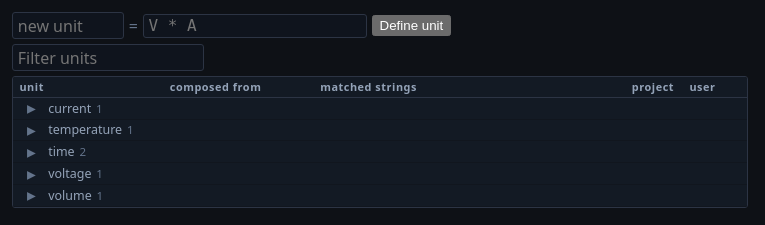
filtering › narrows the table by unit, dimension or matched string
Expected: the list item "voltage" is shown, [48,165,92,182]
Type "temperature" into the search field labelled "Filter units" at (108, 58), box [12,44,204,71]
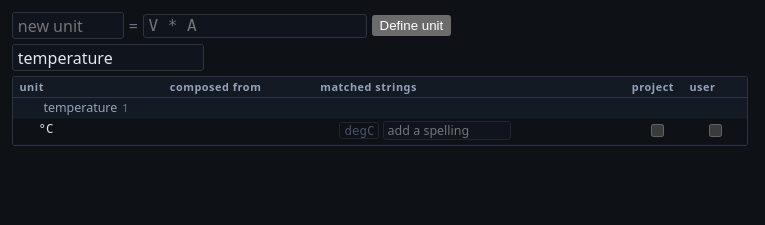
Now the list item "°C" is shown, box [39,121,54,136]
